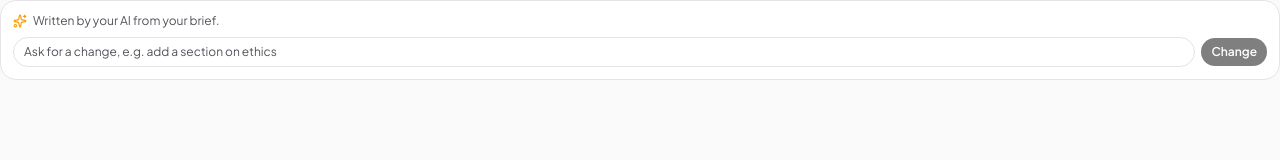
Test case: outline panel › revises an AI outline on request, can undo, and shows errors
This screenshot has width=1280, height=160.
Expected: the text "Written by your AI from your brief." is shown, x1=13 y1=13 x2=220 y2=28
Type "add a section on ethics" into the field named "Change the outline".
click(604, 52); type("add a section on ethics")  # box x1=13 y1=37 x2=1196 y2=67
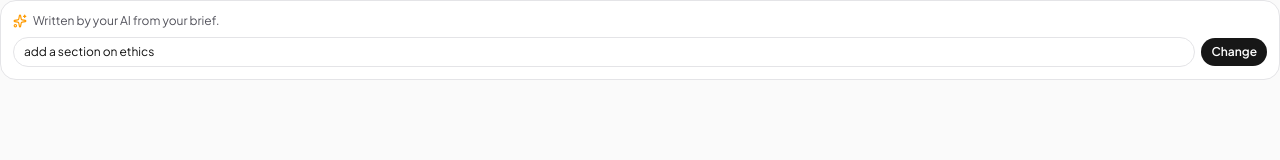
Click the button "Change".
click(1234, 52)  # box x1=1202 y1=38 x2=1267 y2=66
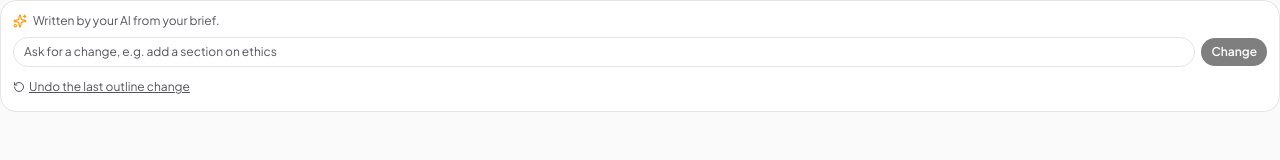
Click the button "Undo the last outline change".
click(101, 87)  # box x1=13 y1=79 x2=190 y2=95
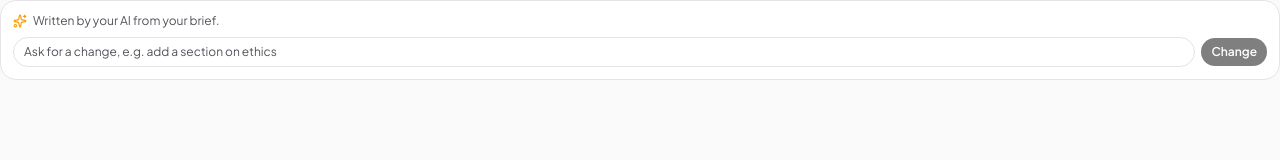
Type "shorter" into the field named "Change the outline".
click(604, 52); type("shorter")  # box x1=13 y1=37 x2=1196 y2=67
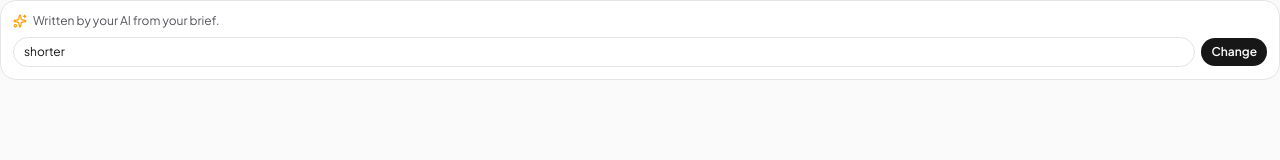
Click the button "Change".
click(1234, 52)  # box x1=1202 y1=38 x2=1267 y2=66
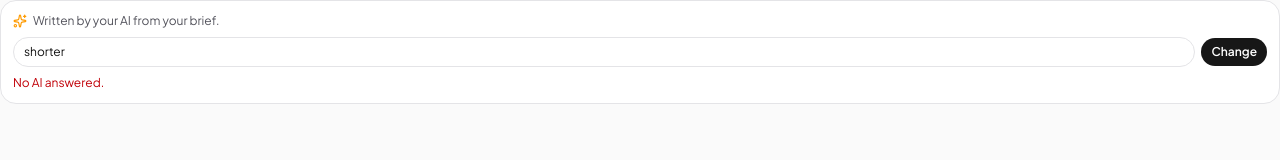
Expected: the message reads "No AI answered.", x1=13 y1=75 x2=104 y2=90
